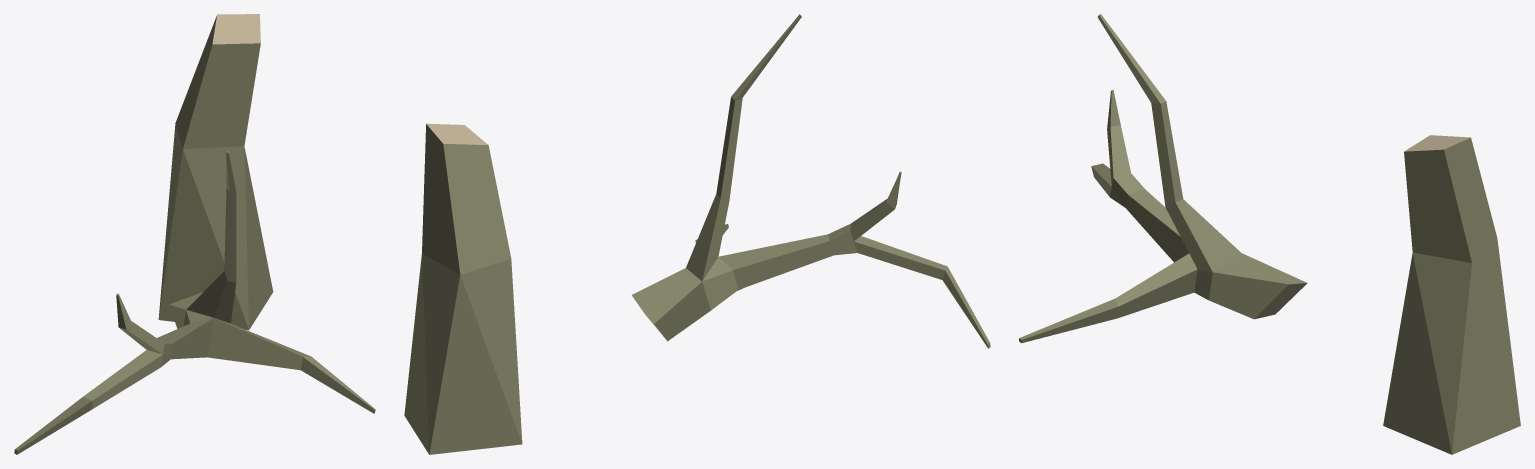
Rendered from Dead_Tree_crk_m_03_LOD.fbx.
3 views of the same model, side by side, from view 1: azimuth 30°, elevation 25°; view 2: azimuth 150°, elevation 25°; view 3: azimuth 270°, elevation 25° (orthographic). The views are drawn at different scales.
Parts seen in each view (by area): view 1: Dead_Tree_crk_m_03_LOD0; view 2: Dead_Tree_crk_m_03_LOD0; view 3: Dead_Tree_crk_m_03_LOD0.
Boxes of the visible parts, <box> form: Dead_Tree_crk_m_03_LOD0: <box>14,14,375,454</box>; Dead_Tree_crk_m_03_LOD0: <box>404,14,990,454</box>; Dead_Tree_crk_m_03_LOD0: <box>1019,14,1520,454</box>.
Size of what is drawn, in the model's own units: 353 by 260 by 357.
